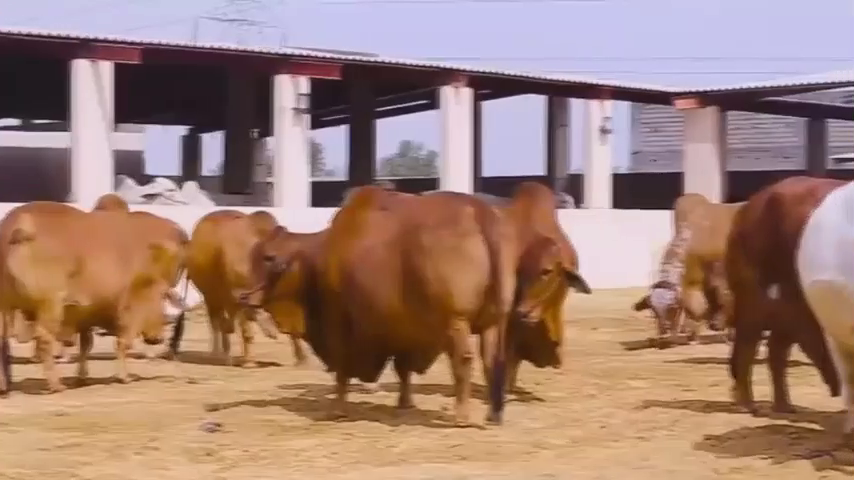bo: (242, 183, 507, 434), (713, 146, 850, 433), (7, 193, 171, 389), (478, 162, 580, 383), (630, 170, 736, 349), (181, 201, 286, 366)
